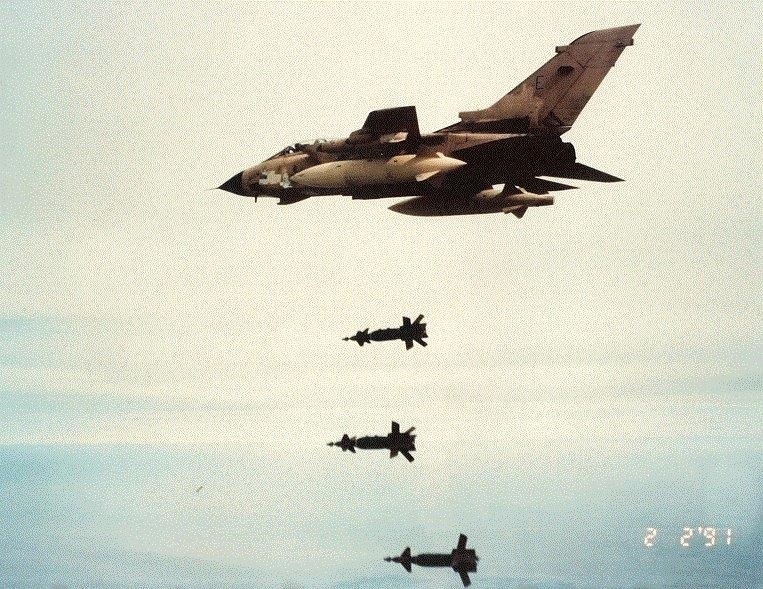Tornado: (204, 23, 641, 219)
